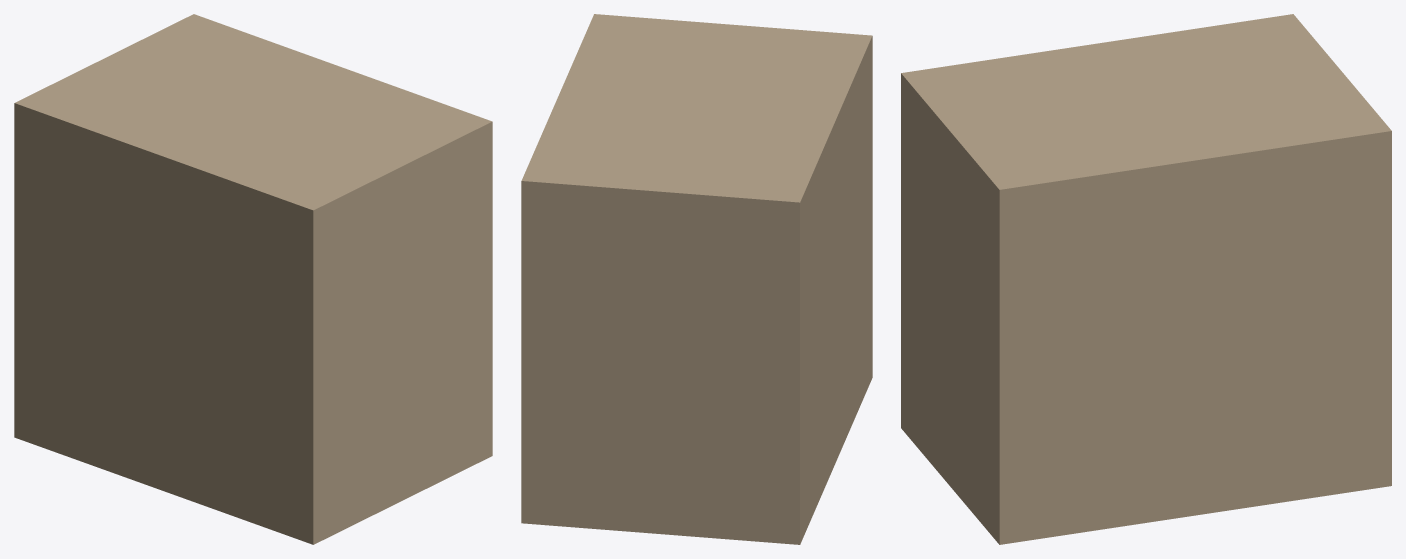
The model's file is bld_107639030.dae.
3 views of the same model, side by side, from view 1: azimuth 30°, elevation 25°; view 2: azimuth 150°, elevation 25°; view 3: azimuth 270°, elevation 25° (orthographic). The views are drawn at different scales.
Parts seen in each view (by area): view 1: bld_107639030; view 2: bld_107639030; view 3: bld_107639030.
Part boxes in pixels (<box>): bld_107639030: <box>14,14,492,544</box>; bld_107639030: <box>521,14,872,544</box>; bld_107639030: <box>901,14,1391,544</box>.
Bounding box in the file's own units: 8.5 × 10.02 × 8.
